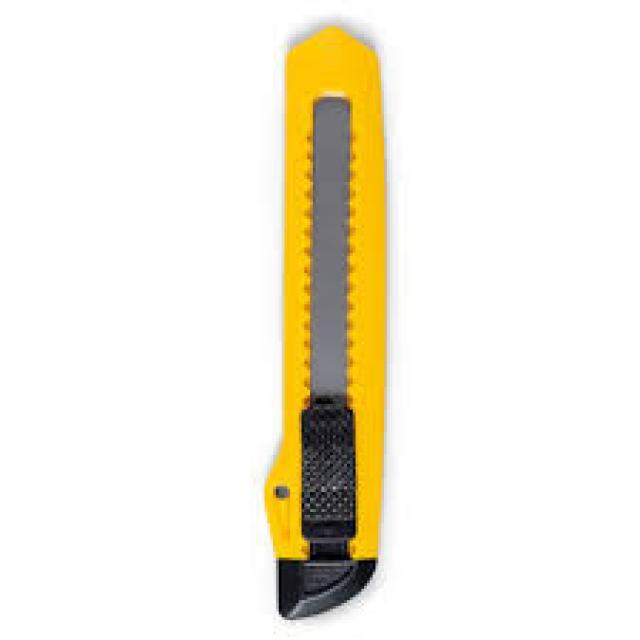cutter: (268, 17, 382, 625)
